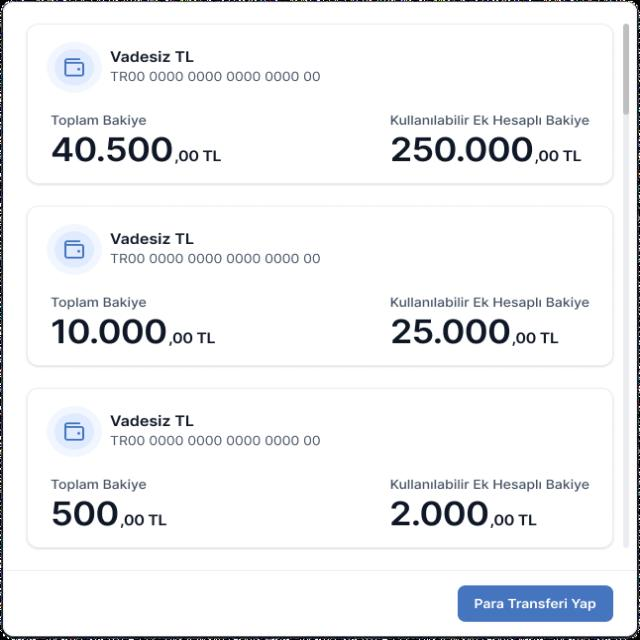QLabel: (384, 134, 533, 165), (47, 314, 167, 348), (384, 314, 510, 346), (48, 133, 174, 164), (110, 433, 326, 448), (387, 477, 592, 492), (385, 498, 487, 528), (468, 592, 601, 615), (109, 70, 326, 84), (383, 113, 594, 127), (384, 295, 594, 309), (109, 252, 325, 265), (49, 498, 120, 527), (49, 477, 147, 492), (47, 296, 147, 310), (48, 113, 146, 127), (107, 412, 197, 427), (107, 49, 198, 63), (105, 231, 196, 245), (490, 512, 540, 527), (121, 512, 168, 527), (178, 148, 222, 164), (512, 330, 560, 344), (170, 331, 218, 345), (536, 149, 583, 163)
VBtn: (458, 583, 614, 624)
VCard: (0, 1, 639, 639), (27, 21, 614, 187), (28, 387, 615, 548), (27, 206, 615, 365)
VIcon: (46, 222, 103, 276), (46, 41, 103, 94), (46, 405, 103, 458)
